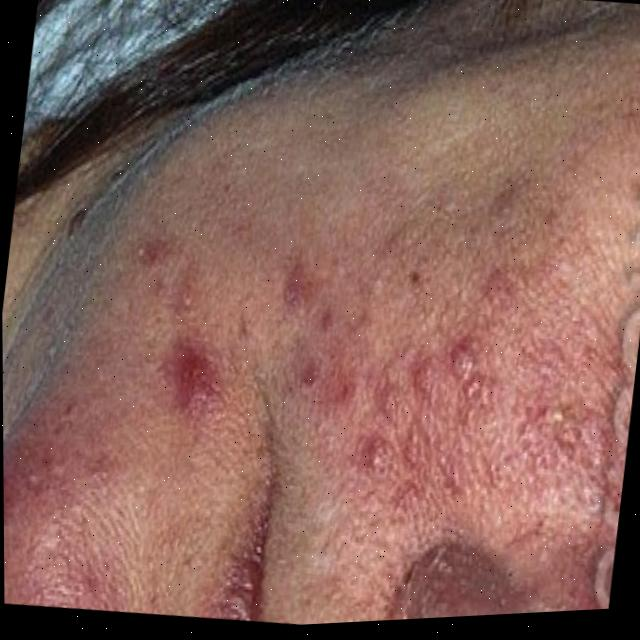Rosacea: (123, 134, 640, 570), (3, 431, 141, 617)
